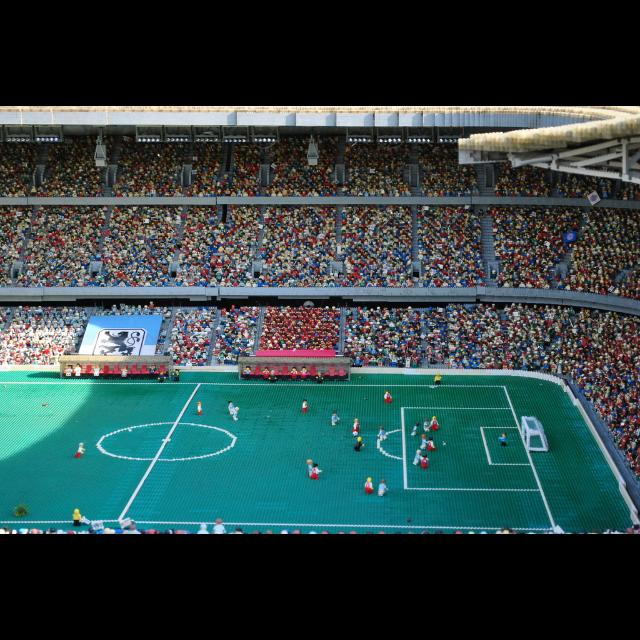Football: (443, 441, 447, 445)
